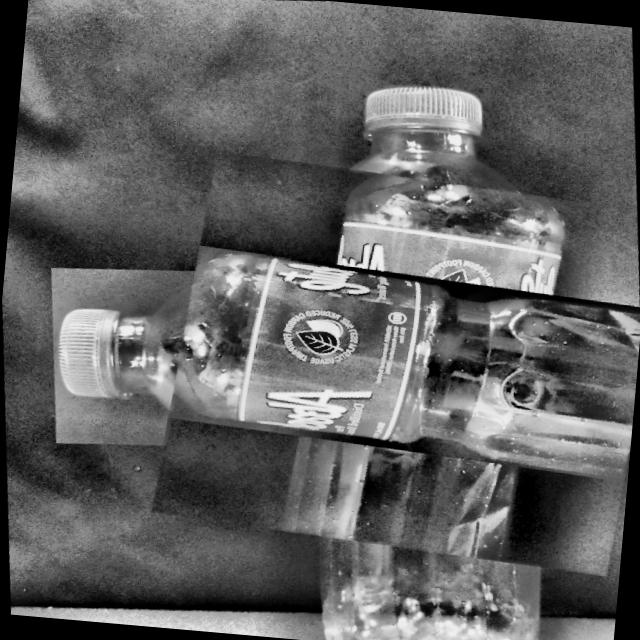Plastic-Bottle: (123, 128, 640, 592)
